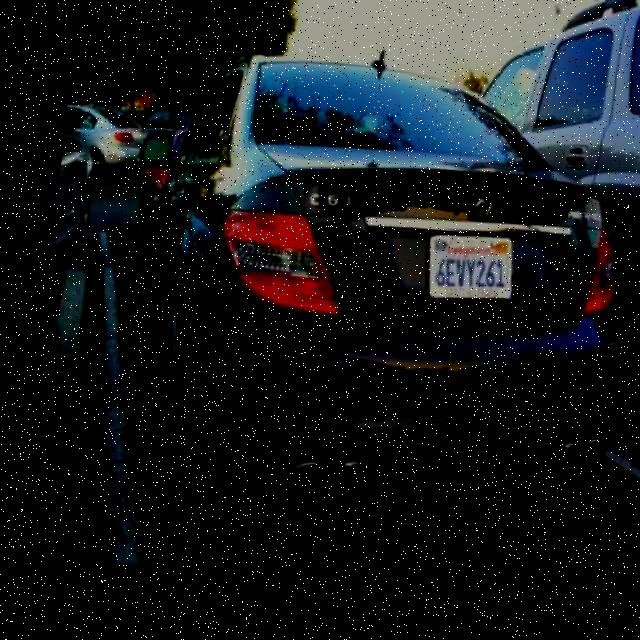license_plate: (402, 232, 513, 333)
